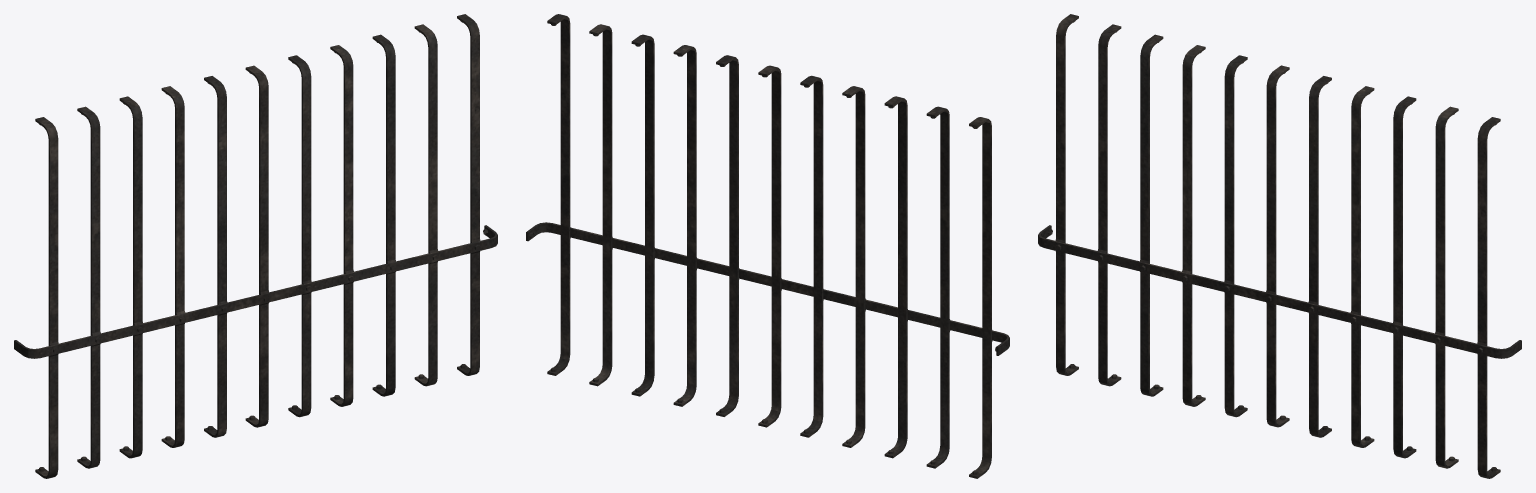
The model's file is window_metal_bars_double.obj.
3 renders of one model, left to right at view 1: azimuth 30°, elevation 25°; view 2: azimuth 150°, elevation 25°; view 3: azimuth 330°, elevation 25°, orthographic.
Parts seen in each view (by area): view 1: window_metal_bars_double; view 2: window_metal_bars_double; view 3: window_metal_bars_double.
Part boxes in pixels (<box>): window_metal_bars_double: <box>14,14,497,478</box>; window_metal_bars_double: <box>526,14,1009,478</box>; window_metal_bars_double: <box>1038,14,1521,478</box>.
Bounding box in the file's own units: 2.24 × 1.6 × 0.141.
